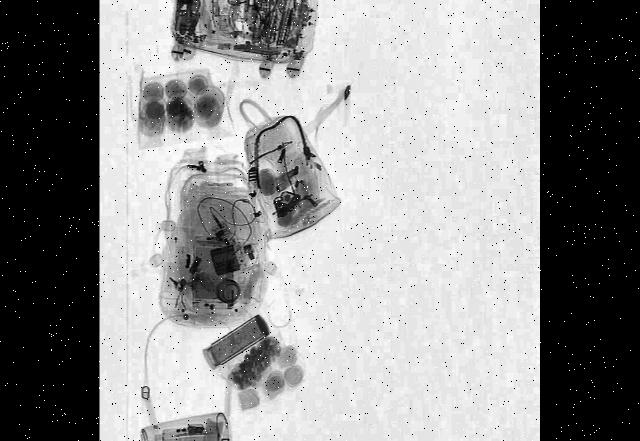Pliers: (251, 0, 280, 33)
